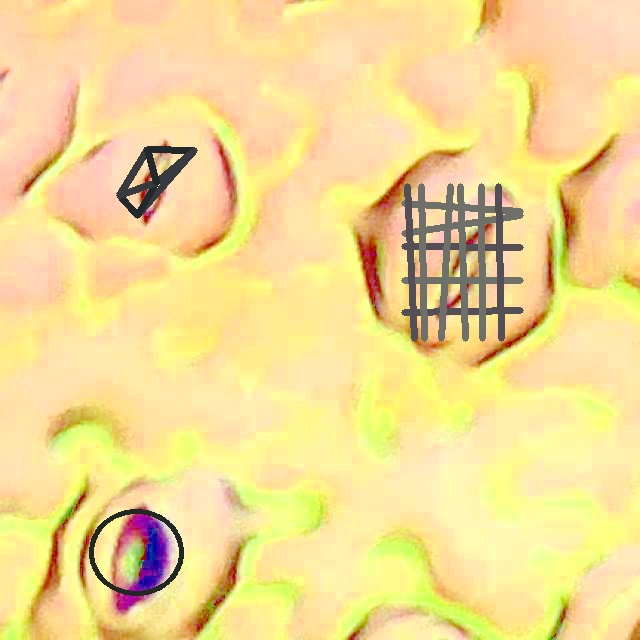open: (402, 183, 522, 341), (89, 508, 183, 597), (116, 146, 197, 218)
